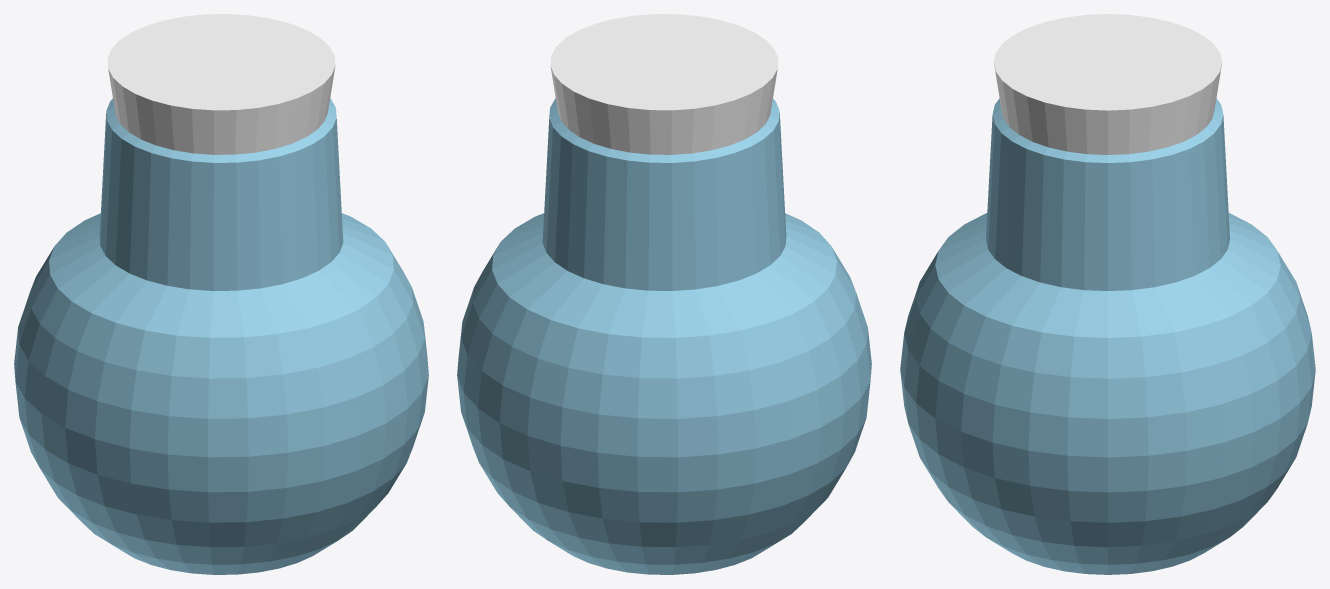
Rendered from FLASK.glb.
The picture shows the model from 3 angles, left to right: view 1: azimuth 30°, elevation 25°; view 2: azimuth 150°, elevation 25°; view 3: azimuth 270°, elevation 25°; orthographic projection.
Visible parts, largest first — view 1: Sphere, Cylinder; view 2: Sphere, Cylinder; view 3: Sphere, Cylinder.
Boxes of the visible parts, x1,y1,x2,y2 form: Sphere: (14, 98, 428, 574); Cylinder: (107, 14, 335, 154); Sphere: (457, 98, 871, 574); Cylinder: (550, 14, 778, 154); Sphere: (900, 98, 1315, 574); Cylinder: (993, 14, 1222, 154).
Bounding box in the file's own units: 0.3084 × 0.3859 × 0.3084.
